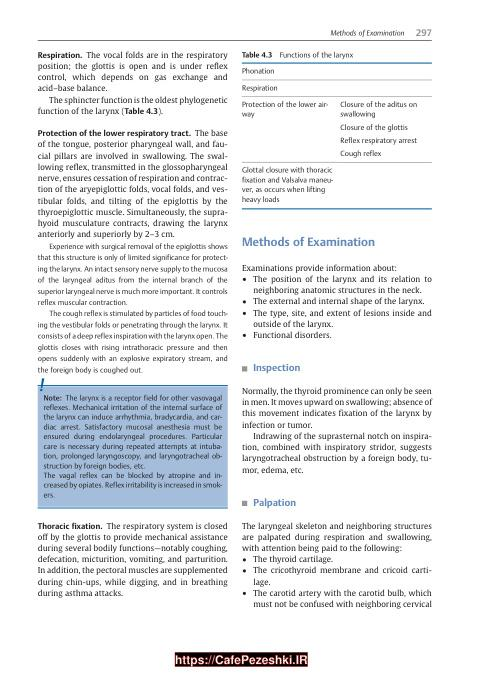caption: (241, 50, 354, 60)
header: (329, 28, 404, 38)
list: (241, 274, 433, 340), (241, 554, 433, 611)
section-heading: (241, 235, 376, 247)
sub-section-heading: (37, 129, 192, 138), (252, 362, 302, 375), (37, 521, 103, 530), (252, 497, 297, 510), (37, 51, 83, 61)
table: (240, 63, 433, 208)
text: (36, 128, 229, 375), (43, 393, 223, 499), (240, 386, 434, 475), (36, 520, 229, 599), (37, 50, 228, 117), (241, 521, 433, 553), (241, 263, 397, 273)
